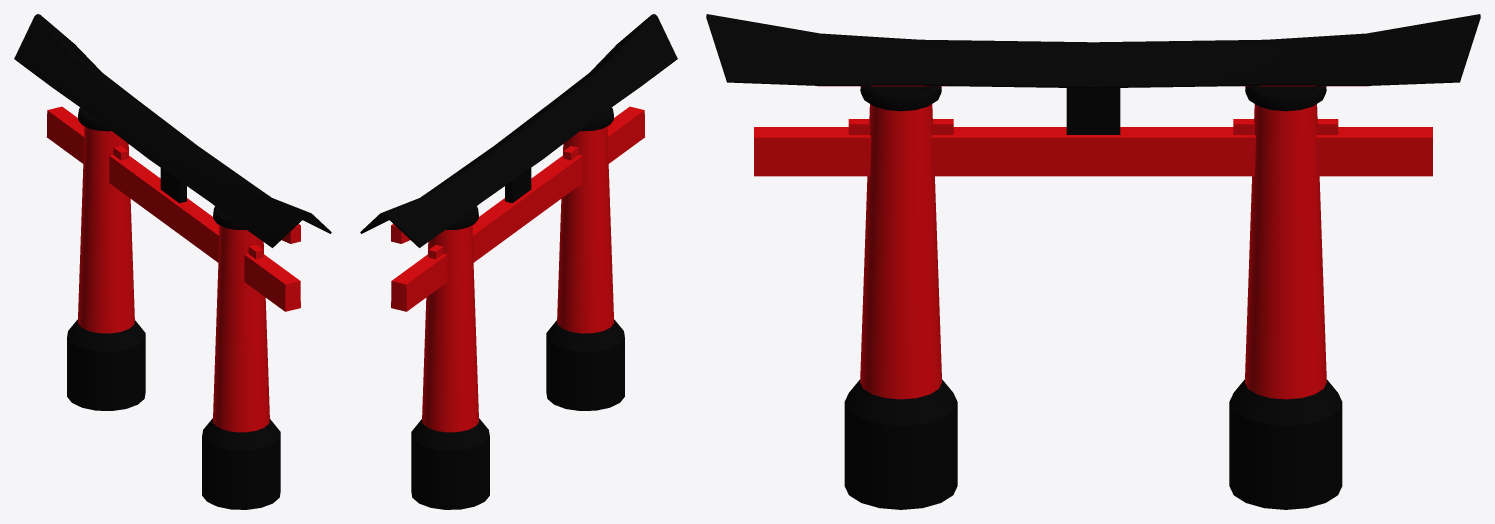
Rendered from building_20.fbx.
3 renders of one model, left to right at view 1: azimuth 30°, elevation 25°; view 2: azimuth 150°, elevation 25°; view 3: azimuth 270°, elevation 25°, orthographic. The views are drawn at different scales.
Parts seen in each view (by area): view 1: Circle; view 2: Circle; view 3: Circle.
Part boxes in pixels (bbox=[...]): Circle: bbox=[14, 14, 331, 509]; Circle: bbox=[360, 14, 677, 509]; Circle: bbox=[706, 14, 1480, 509].
Bounding box in the file's own units: 267 × 1227 × 1830.
